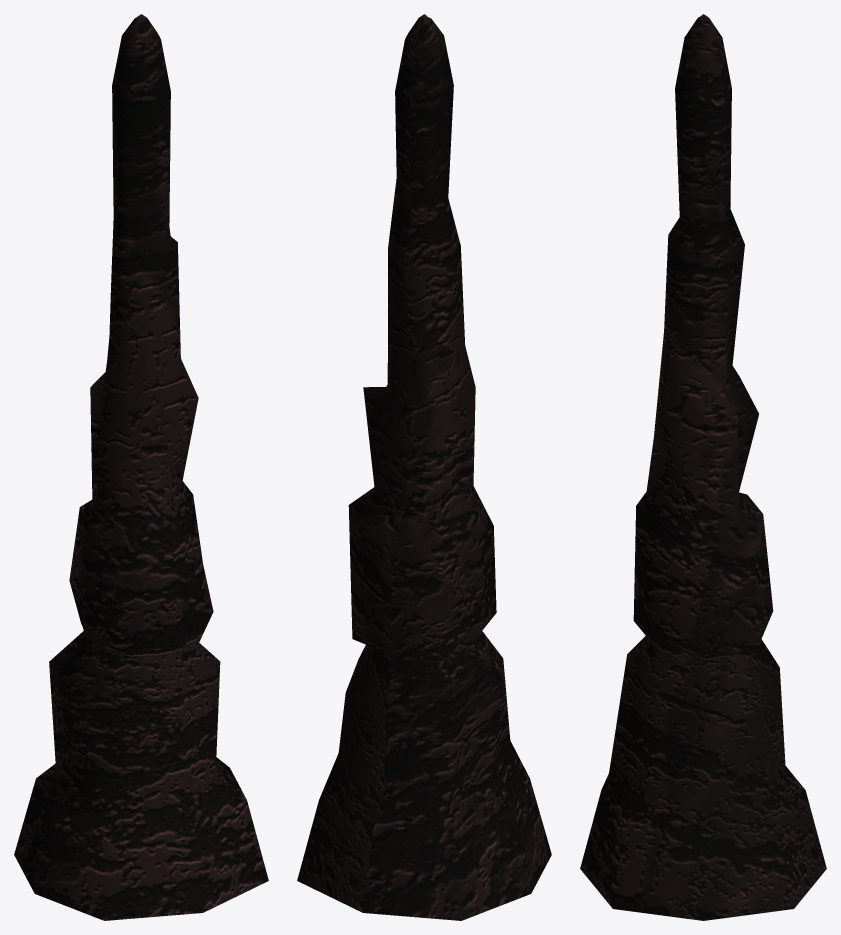
The model's file is stalagmite.fbx.
The picture shows the model from 3 angles, left to right: view 1: azimuth 30°, elevation 25°; view 2: azimuth 150°, elevation 25°; view 3: azimuth 270°, elevation 25°; orthographic projection.
Visible parts, largest first — view 1: stalagmite; view 2: stalagmite; view 3: stalagmite.
Part boxes in pixels (box(x1,y1,x2,y2)): stalagmite: box(14, 14, 268, 920); stalagmite: box(297, 14, 551, 920); stalagmite: box(580, 14, 826, 920).
Size of the model in its own units: 1 by 3.82 by 1.
